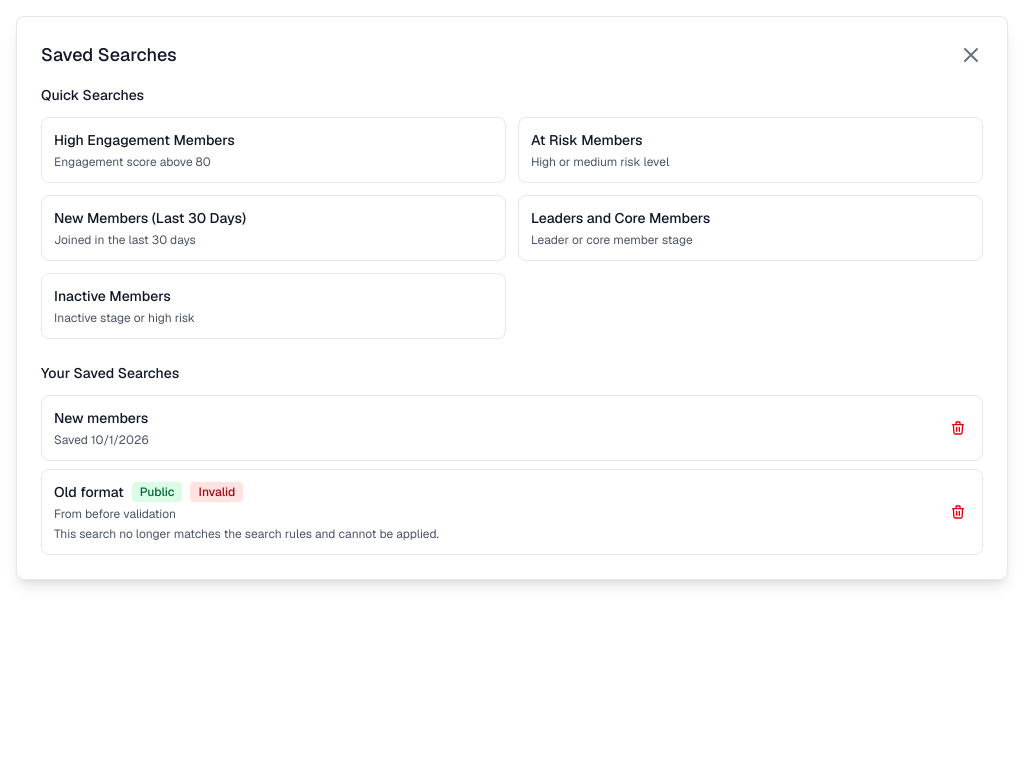
Test: SavedSearches › deletes after confirmation and shows API errors
Click the button named "Delete saved search Old format": (958, 512) [946,500,970,524]
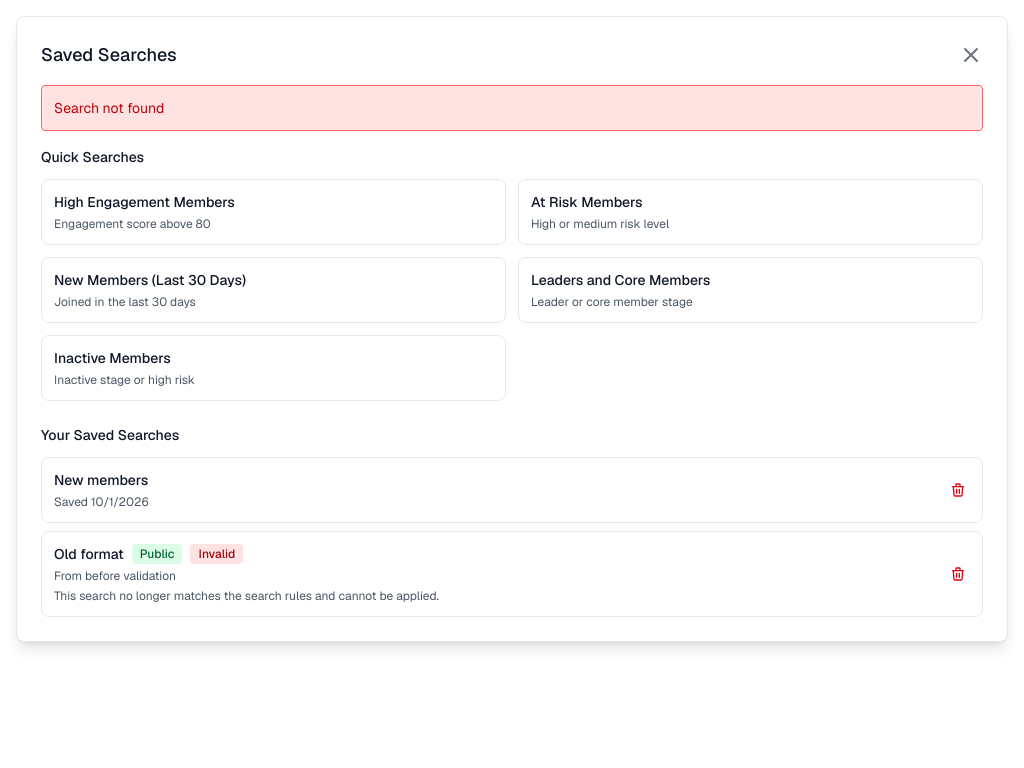
Now the message reads "Search not found", box [54,99,164,117]
